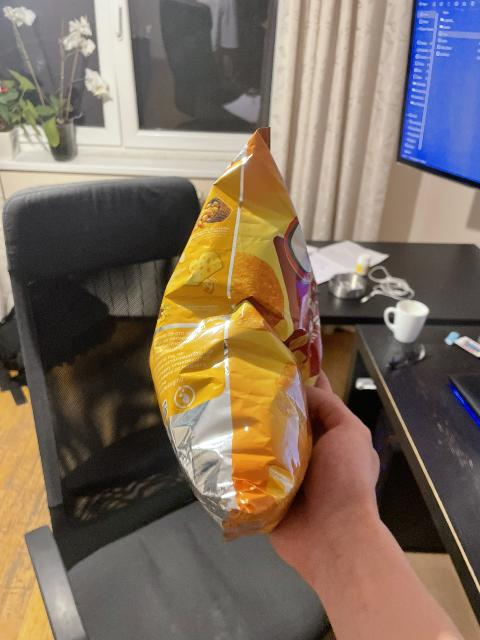Chio Cascaval 125g: (148, 134, 316, 524)
